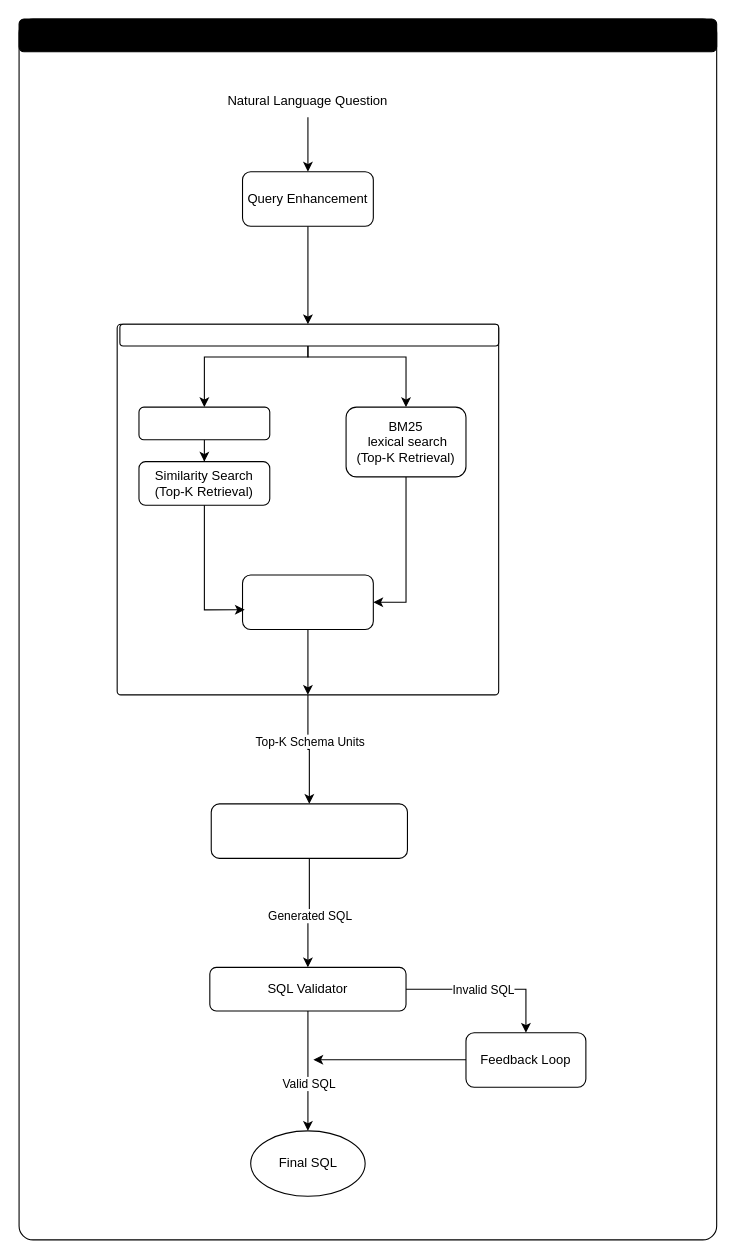
Image size: 736x1259. Some labels were removed from this diagram. Here are the shapes that lost their labels. From the top down, the centre of each, then its label:
At point (309, 334): "Retrieveal unit".
At point (204, 423): "Question Embedding".
At point (307, 601): "Reranker".
At point (308, 830): "Large Language Model (GPT / Ollama / etc.)".
